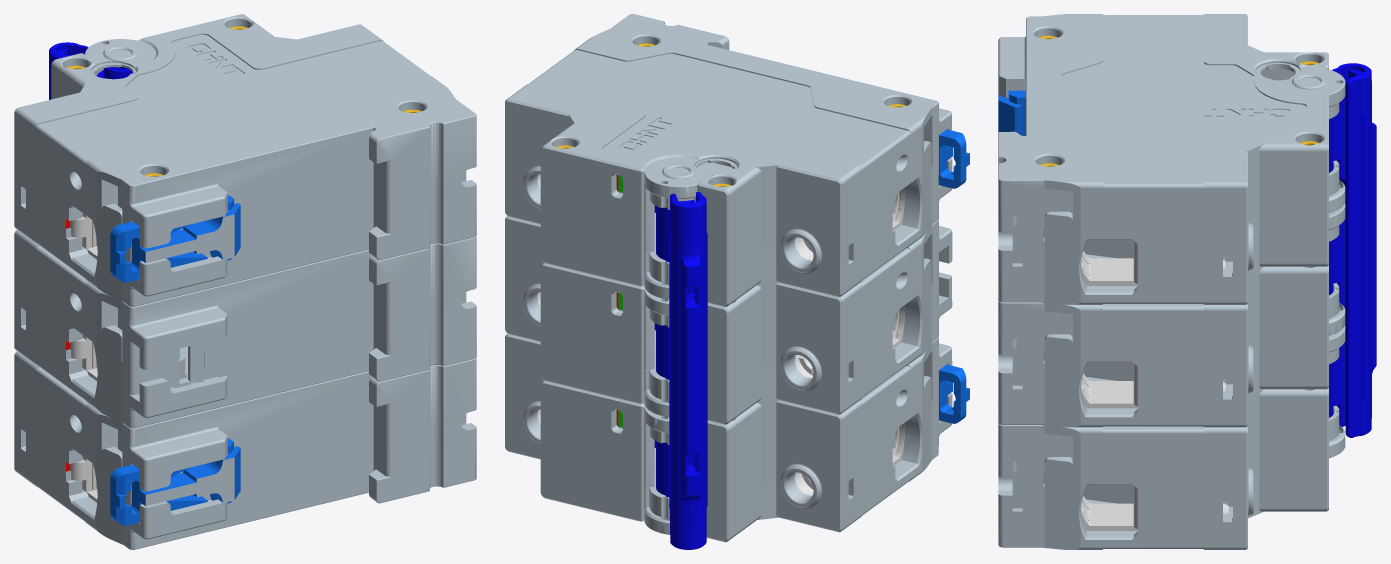
The model's file is CHINT_NXB-125_3P.glb.
The picture shows the model from 3 angles, left to right: view 1: azimuth 30°, elevation 25°; view 2: azimuth 150°, elevation 25°; view 3: azimuth 270°, elevation 25°; orthographic projection. The views are drawn at different scales.
Visible parts, largest first — view 1: =>[0:1:1:2]; view 2: =>[0:1:1:2]; view 3: =>[0:1:1:2].
Part boxes in pixels (box(x1,y1,x2,y2)): =>[0:1:1:2]: box(14, 14, 476, 549); =>[0:1:1:2]: box(505, 14, 969, 549); =>[0:1:1:2]: box(998, 14, 1376, 549).
Size of the model in its own units: 83.55 by 80.4 by 74.96.
